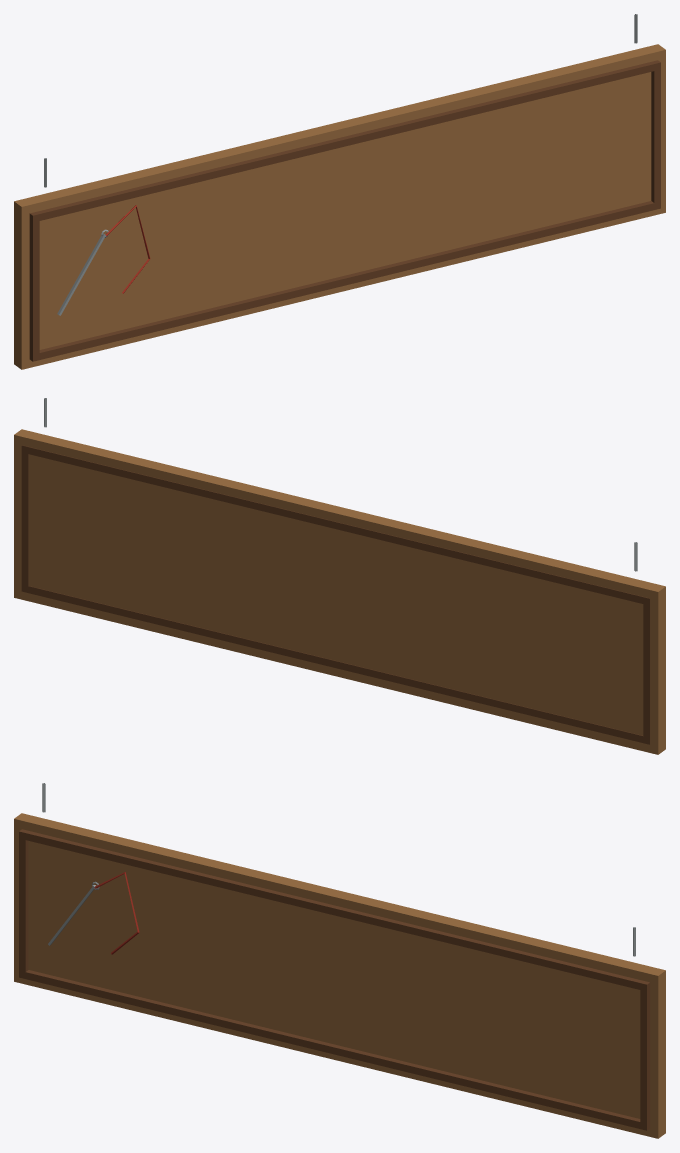
Rendered from bang_tiem_may_be_tu_48.glb.
The picture shows the model from 3 angles, top to bottom: view 1: azimuth 30°, elevation 25°; view 2: azimuth 150°, elevation 25°; view 3: azimuth 330°, elevation 25°; orthographic projection.
Parts seen in each view (by area): view 1: bang_tiem_may_be_tu_48; view 2: bang_tiem_may_be_tu_48; view 3: bang_tiem_may_be_tu_48.
Boxes of the visible parts, x1,y1,x2,y2 form: bang_tiem_may_be_tu_48: (14,14,665,369); bang_tiem_may_be_tu_48: (14,398,665,754); bang_tiem_may_be_tu_48: (14,783,665,1138).
Bounding box in the file's own units: 2.4 × 0.72 × 0.072.
